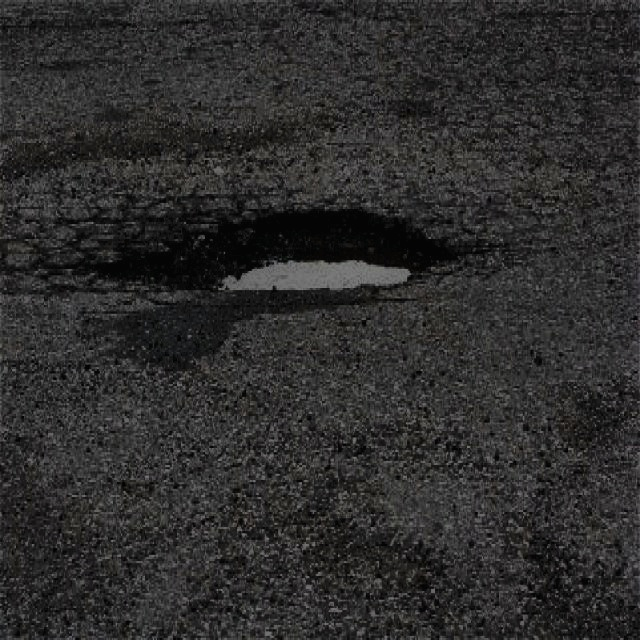Pothole: (91, 196, 452, 299)
